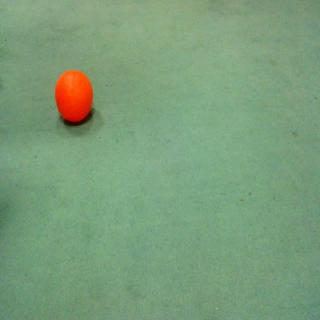orange: (47, 65, 99, 130)
